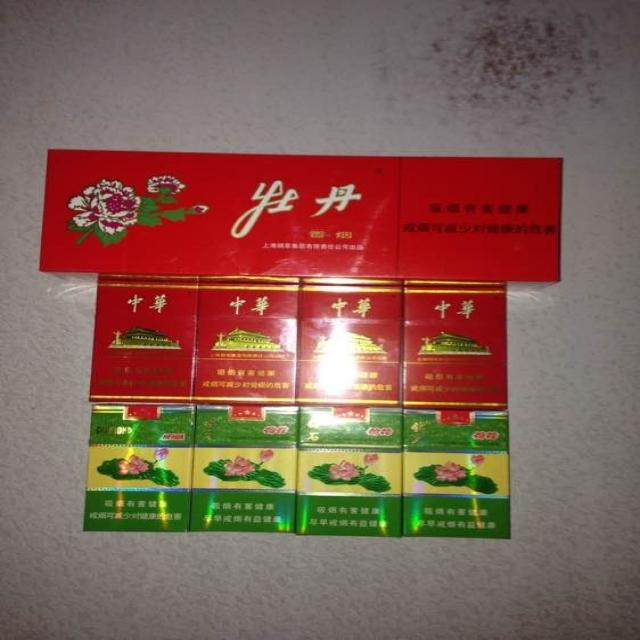box: (39, 148, 564, 283), (82, 403, 196, 533), (189, 403, 301, 534), (89, 273, 199, 403), (296, 405, 403, 538), (403, 408, 511, 539), (192, 276, 300, 405), (296, 277, 403, 407), (403, 280, 509, 410)
